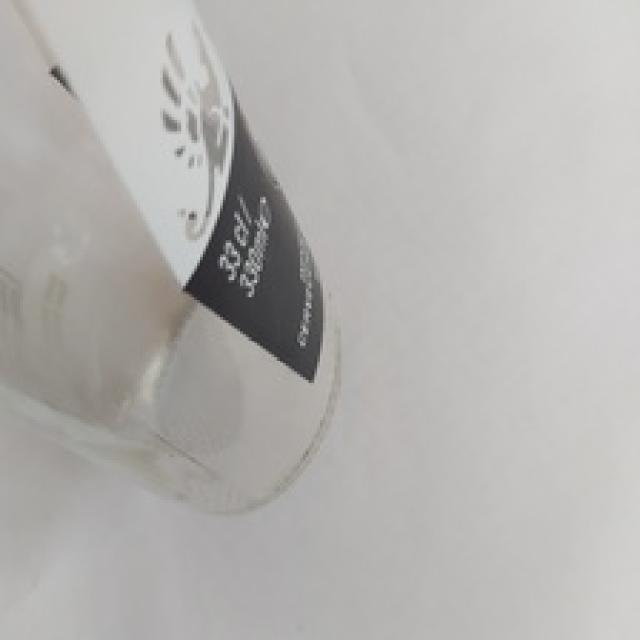Glass: (0, 0, 341, 523)
